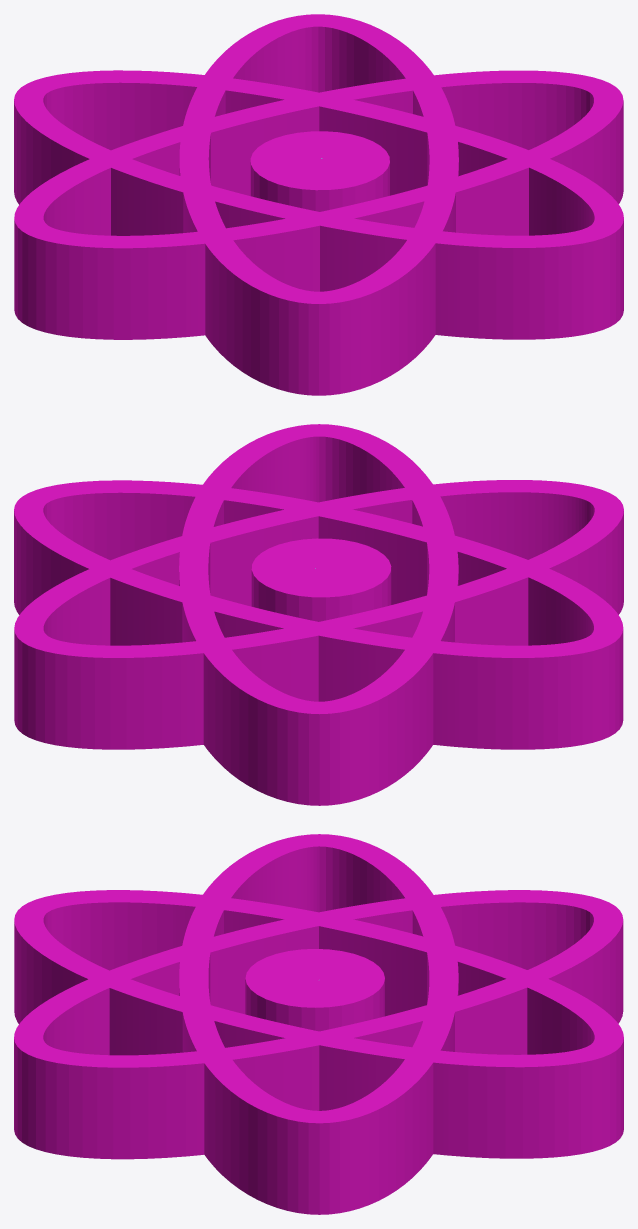
The model's file is react-3d-keep.glb.
The picture shows the model from 3 angles, top to bottom: view 1: azimuth 30°, elevation 25°; view 2: azimuth 150°, elevation 25°; view 3: azimuth 270°, elevation 25°; orthographic projection.
Parts seen in each view (by area): view 1: Circle; view 2: Circle; view 3: Circle.
Boxes of the visible parts, <box> form: Circle: <box>14,14,623,395</box>; Circle: <box>14,424,623,805</box>; Circle: <box>14,834,623,1214</box>.
Bounding box in the file's own units: 11.75 × 3.47 × 10.48.
